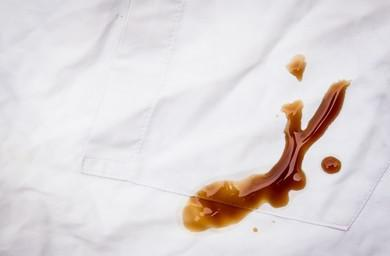gun: (182, 175, 340, 228), (282, 50, 343, 171)
